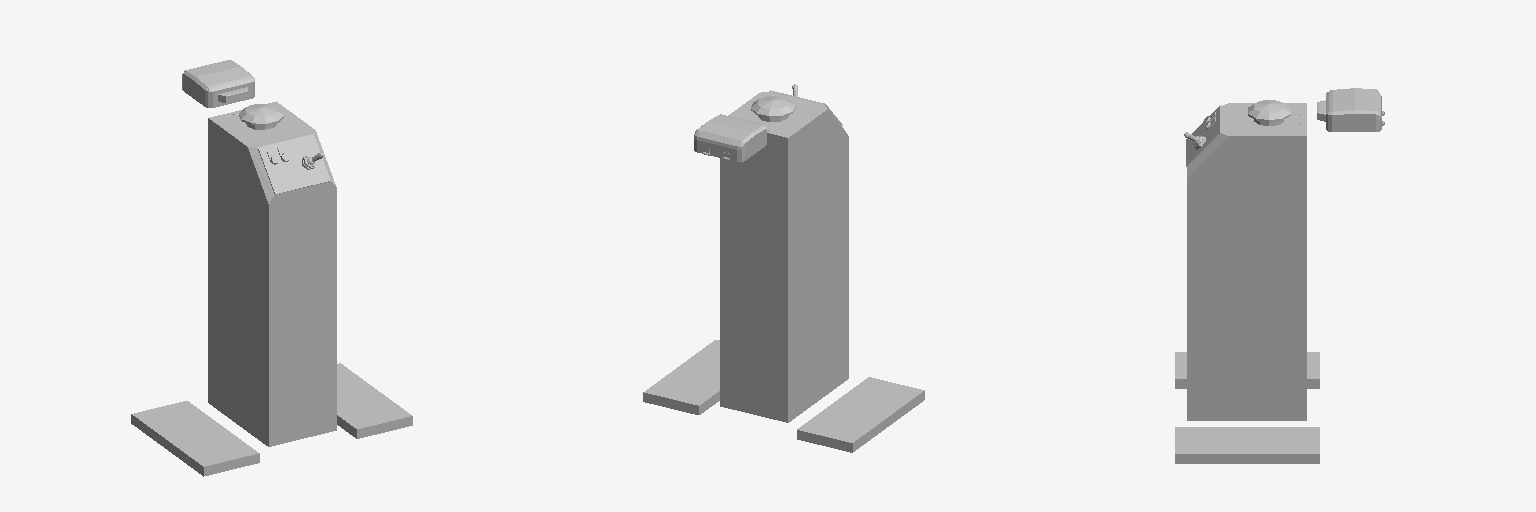
The model's file is LaunchButtonUVs_Final.obj.
3 views of the same model, side by side, from view 1: azimuth 30°, elevation 25°; view 2: azimuth 150°, elevation 25°; view 3: azimuth 270°, elevation 25° (orthographic).
Visible parts, largest first — view 1: LaunchButton Base, Floor_01_Geo, Floor_02_Geo, LaunchButton Cover, Button LaunchButton; view 2: LaunchButton Base, Floor_01_Geo, Floor_02_Geo, LaunchButton Cover, Button LaunchButton; view 3: LaunchButton Base, Floor_02_Geo, LaunchButton Cover, Floor_01_Geo, Button LaunchButton.
Boxes of the visible parts, <box> form: LaunchButton Base: <box>208,101,336,446</box>; Floor_01_Geo: <box>131,401,259,476</box>; Floor_02_Geo: <box>337,363,412,438</box>; LaunchButton Cover: <box>182,60,254,107</box>; Button LaunchButton: <box>239,104,283,129</box>; LaunchButton Base: <box>720,90,848,422</box>; Floor_01_Geo: <box>797,377,924,452</box>; Floor_02_Geo: <box>643,340,719,414</box>; LaunchButton Cover: <box>694,114,766,162</box>; Button LaunchButton: <box>751,96,795,121</box>; LaunchButton Base: <box>1186,103,1306,420</box>; Floor_02_Geo: <box>1175,427,1319,463</box>; LaunchButton Cover: <box>1317,88,1384,131</box>; Floor_01_Geo: <box>1175,352,1319,388</box>; Button LaunchButton: <box>1248,100,1290,125</box>.
Size of the model in its own units: 8.53 by 12.24 by 7.39.